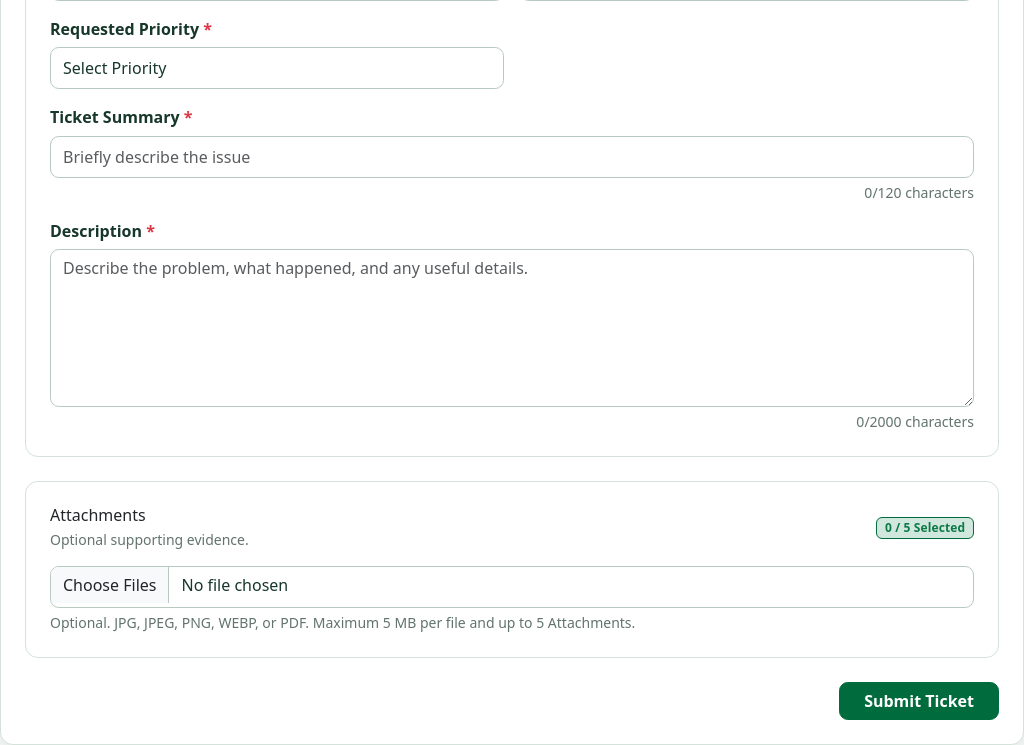
Test: CreateTicket › shows validation messages for an empty form
(page scrolled)
Click the button "Submit Ticket": (919, 701) [839,682,999,720]
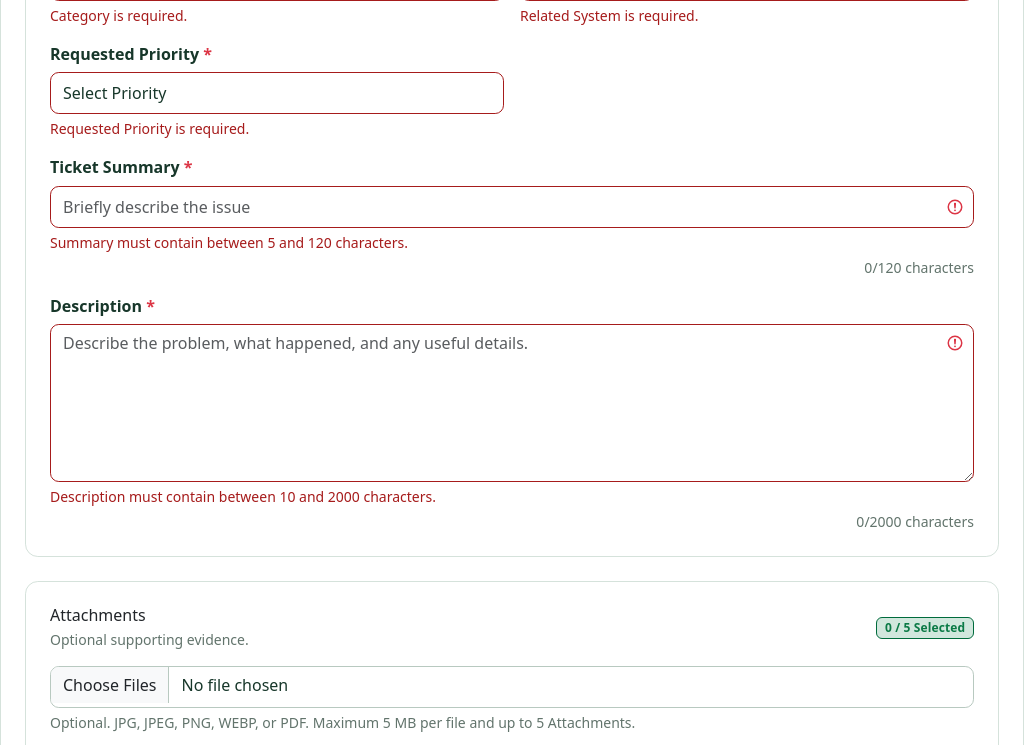
expect the text "Category is required." is shown: met, box [50,6,187,25]
expect the text "Related System is required." is shown: met, box [520,6,698,25]
expect the text "Requested Priority is required." is shown: met, box [50,119,249,138]
